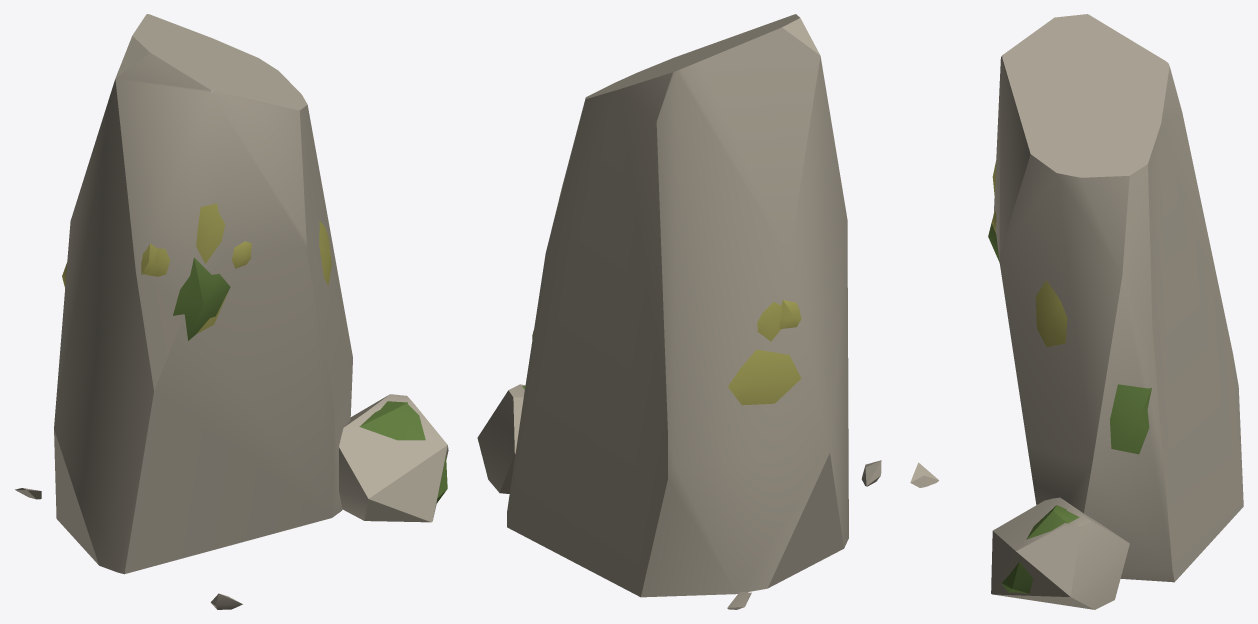
File: rock-4.glb
3 renders of one model, left to right at view 1: azimuth 30°, elevation 25°; view 2: azimuth 150°, elevation 25°; view 3: azimuth 270°, elevation 25°, orthographic. The views are drawn at different scales.
Parts seen in each view (by area): view 1: rock-4; view 2: rock-4; view 3: rock-4.
Boxes of the visible parts, x1,y1,x2,y2 form: rock-4: (15, 14, 448, 609); rock-4: (477, 14, 881, 609); rock-4: (910, 14, 1243, 609).
Size of the model in its own units: 0.932 by 1.23 by 0.7902.
